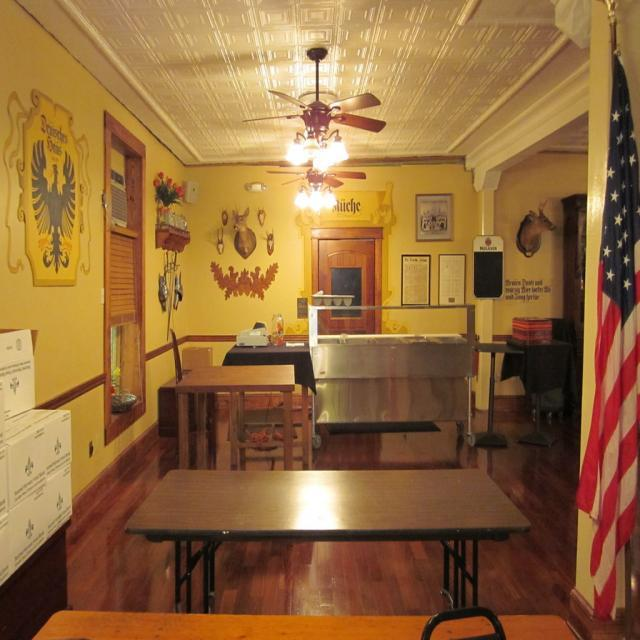fan_off: (238, 50, 382, 138), (270, 166, 362, 194)
